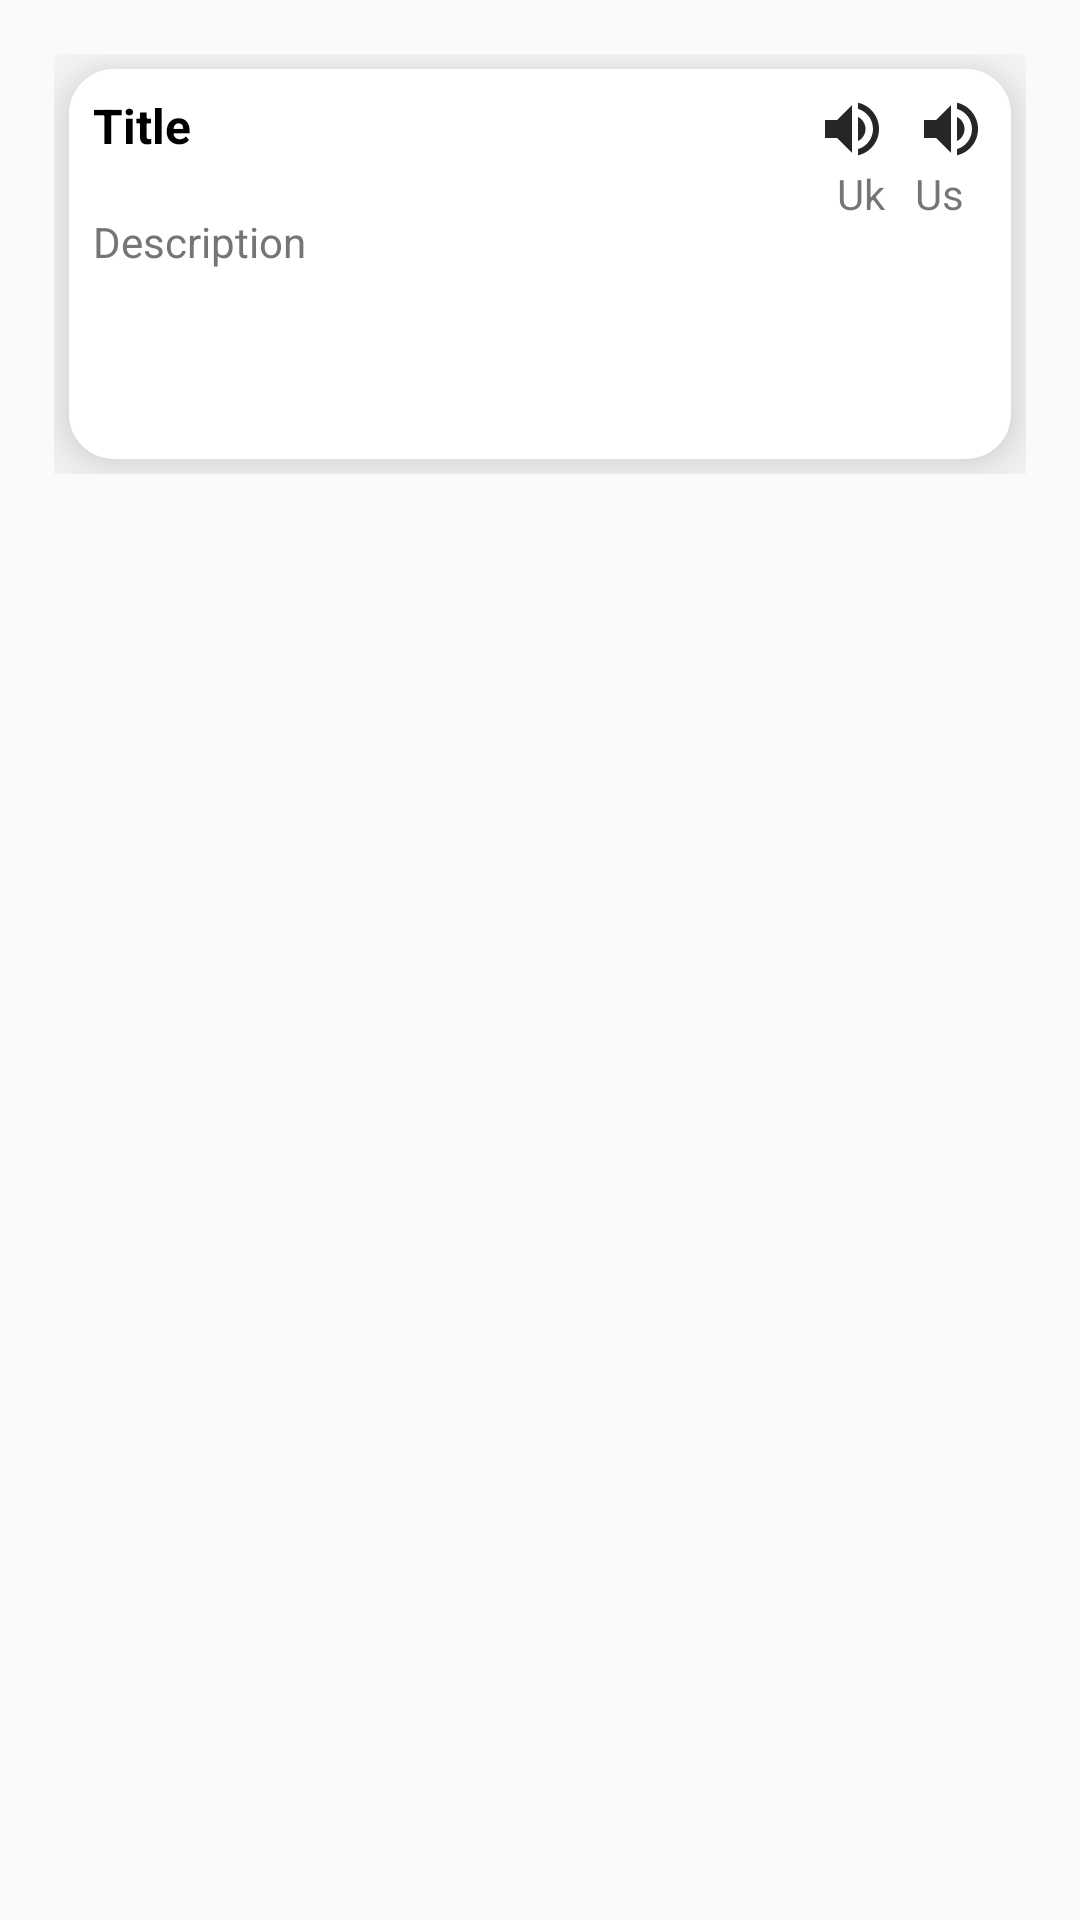

Locate icon controls on the screen. Image size 1080px x 1920px, boxes as (x1, y1, x2, y2).
volume up: (825, 102, 879, 156), (924, 102, 978, 156)
